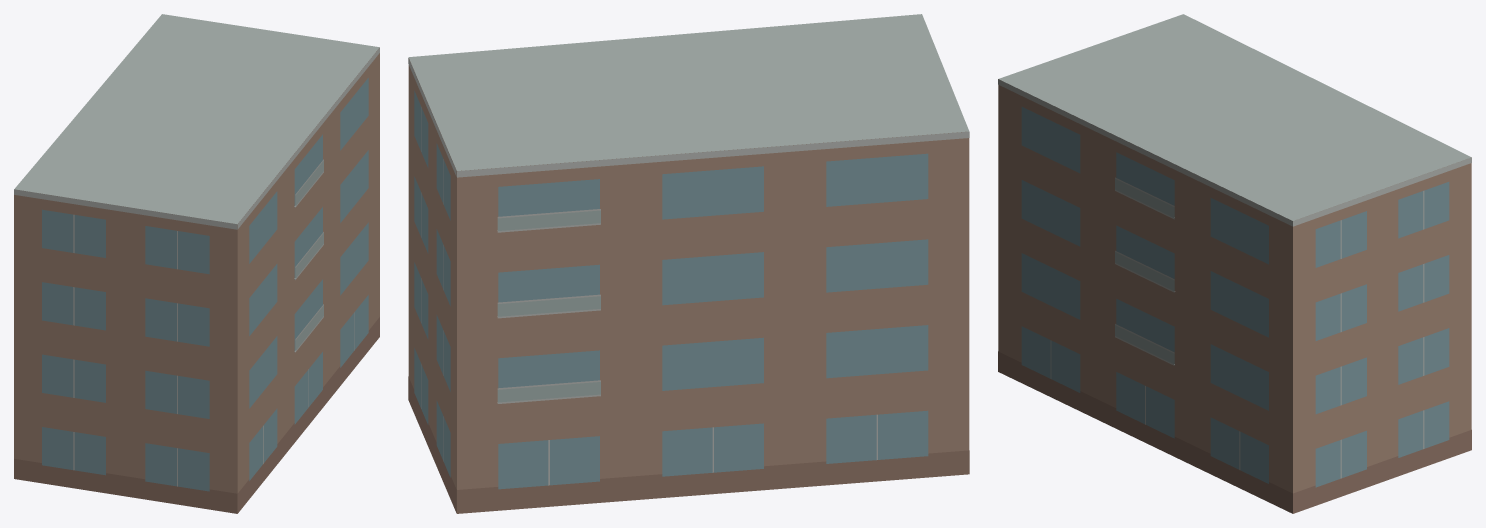
The model's file is survey-upis-32618771.glb.
3 renders of one model, left to right at view 1: azimuth 30°, elevation 25°; view 2: azimuth 150°, elevation 25°; view 3: azimuth 270°, elevation 25°, orthographic. The views are drawn at different scales.
Visible parts, largest first — view 1: survey-upis-32618771.tmp; view 2: survey-upis-32618771.tmp; view 3: survey-upis-32618771.tmp.
Part boxes in pixels (bbox=[...]): survey-upis-32618771.tmp: bbox=[14, 14, 379, 513]; survey-upis-32618771.tmp: bbox=[408, 14, 969, 513]; survey-upis-32618771.tmp: bbox=[998, 14, 1471, 513].
Size of the model in its own units: 19.43 by 12.8 by 18.77.
